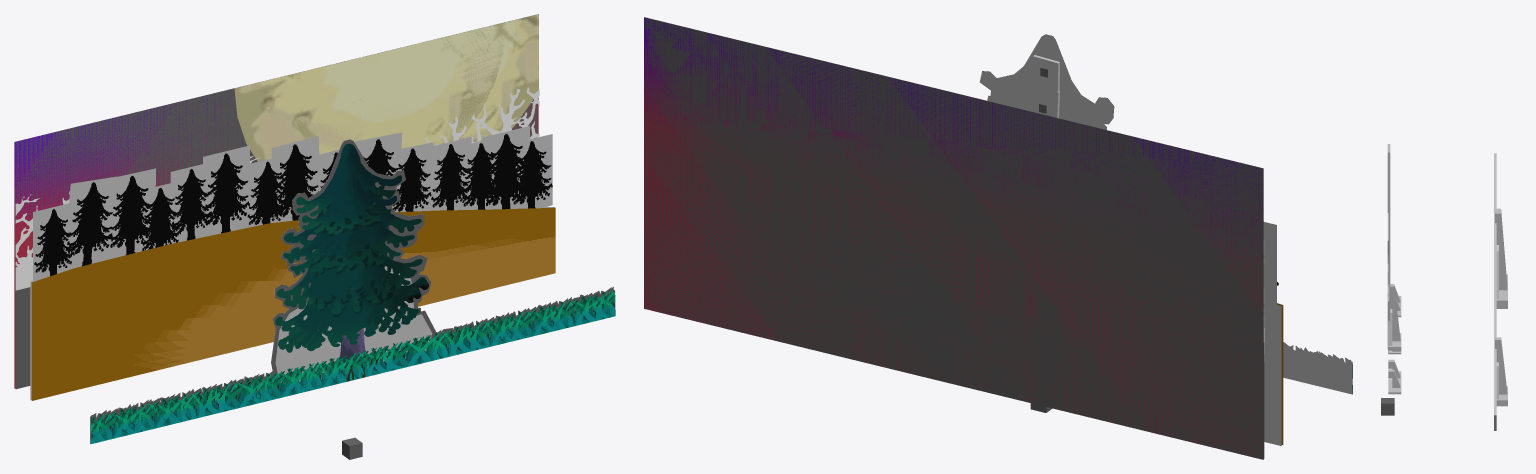
File: stg_04_1_bake.dae
The picture shows the model from 3 angles, left to right: view 1: azimuth 30°, elevation 25°; view 2: azimuth 150°, elevation 25°; view 3: azimuth 270°, elevation 25°; orthographic projection. The views are drawn at different scales.
Visible parts, largest first — view 1: polySurface963_q00142, pCylinder27_q00134, pPlane364_q772, pCylinder29_q00031, pCylinder27_q00143, polySurface995_q00074, pPlane450_q00144, polySurface995_q00086, pCylinder29_q00014, S_m_iwa1, polySurface1272_q00016, polySurface953_q773_part1 (+33 smaller); view 2: pPlane364_q772, pPlane450_q00144, polySurface1273_q00013, polySurface963_q00111, polySurface1271_q00093, polySurface1254_q00005, polySurface953_q00113; view 3: polySurface1250_q00108, polySurface1254_q00005, pCube24_q00099, pCube24_q00102, pCube24, pCube94, pCube22_q00097, pCube24_q00019, pCube23_q00098.
Part boxes in pixels (left/top/right/bottom): polySurface963_q00142: left=31, top=207, right=555, bottom=400; pCylinder27_q00134: left=234, top=24, right=506, bottom=161; pPlane364_q772: left=14, top=14, right=538, bottom=388; pCylinder29_q00031: left=283, top=167, right=421, bottom=352; pCylinder27_q00143: left=295, top=14, right=538, bottom=150; polySurface995_q00074: left=91, top=290, right=614, bottom=443; pPlane450_q00144: left=14, top=92, right=538, bottom=388; polySurface995_q00086: left=90, top=291, right=615, bottom=443; pCylinder29_q00014: left=275, top=143, right=428, bottom=349; S_m_iwa1: left=275, top=266, right=432, bottom=382; polySurface1272_q00016: left=272, top=139, right=431, bottom=348; polySurface953_q773_part1: left=15, top=87, right=539, bottom=290; pPlane364_q772: left=644, top=17, right=1263, bottom=459; pPlane450_q00144: left=644, top=17, right=1263, bottom=459; polySurface1273_q00013: left=980, top=34, right=1113, bottom=126; polySurface963_q00111: left=1263, top=304, right=1281, bottom=445; polySurface1271_q00093: left=1283, top=345, right=1352, bottom=392; polySurface1254_q00005: left=1032, top=55, right=1059, bottom=117; polySurface953_q00113: left=1263, top=222, right=1276, bottom=309; polySurface1250_q00108: left=1494, top=153, right=1496, bottom=430; polySurface1254_q00005: left=1387, top=144, right=1390, bottom=348; pCube24_q00099: left=1495, top=208, right=1507, bottom=290; pCube24_q00102: left=1495, top=337, right=1507, bottom=394; pCube24: left=1390, top=284, right=1400, bottom=341; pCube94: left=1381, top=398, right=1394, bottom=415; pCube22_q00097: left=1496, top=274, right=1507, bottom=308; pCube24_q00019: left=1390, top=284, right=1399, bottom=341; pCube23_q00098: left=1496, top=245, right=1498, bottom=298.
Size of the model in its own units: 40.13 by 23.5 by 10.5.
